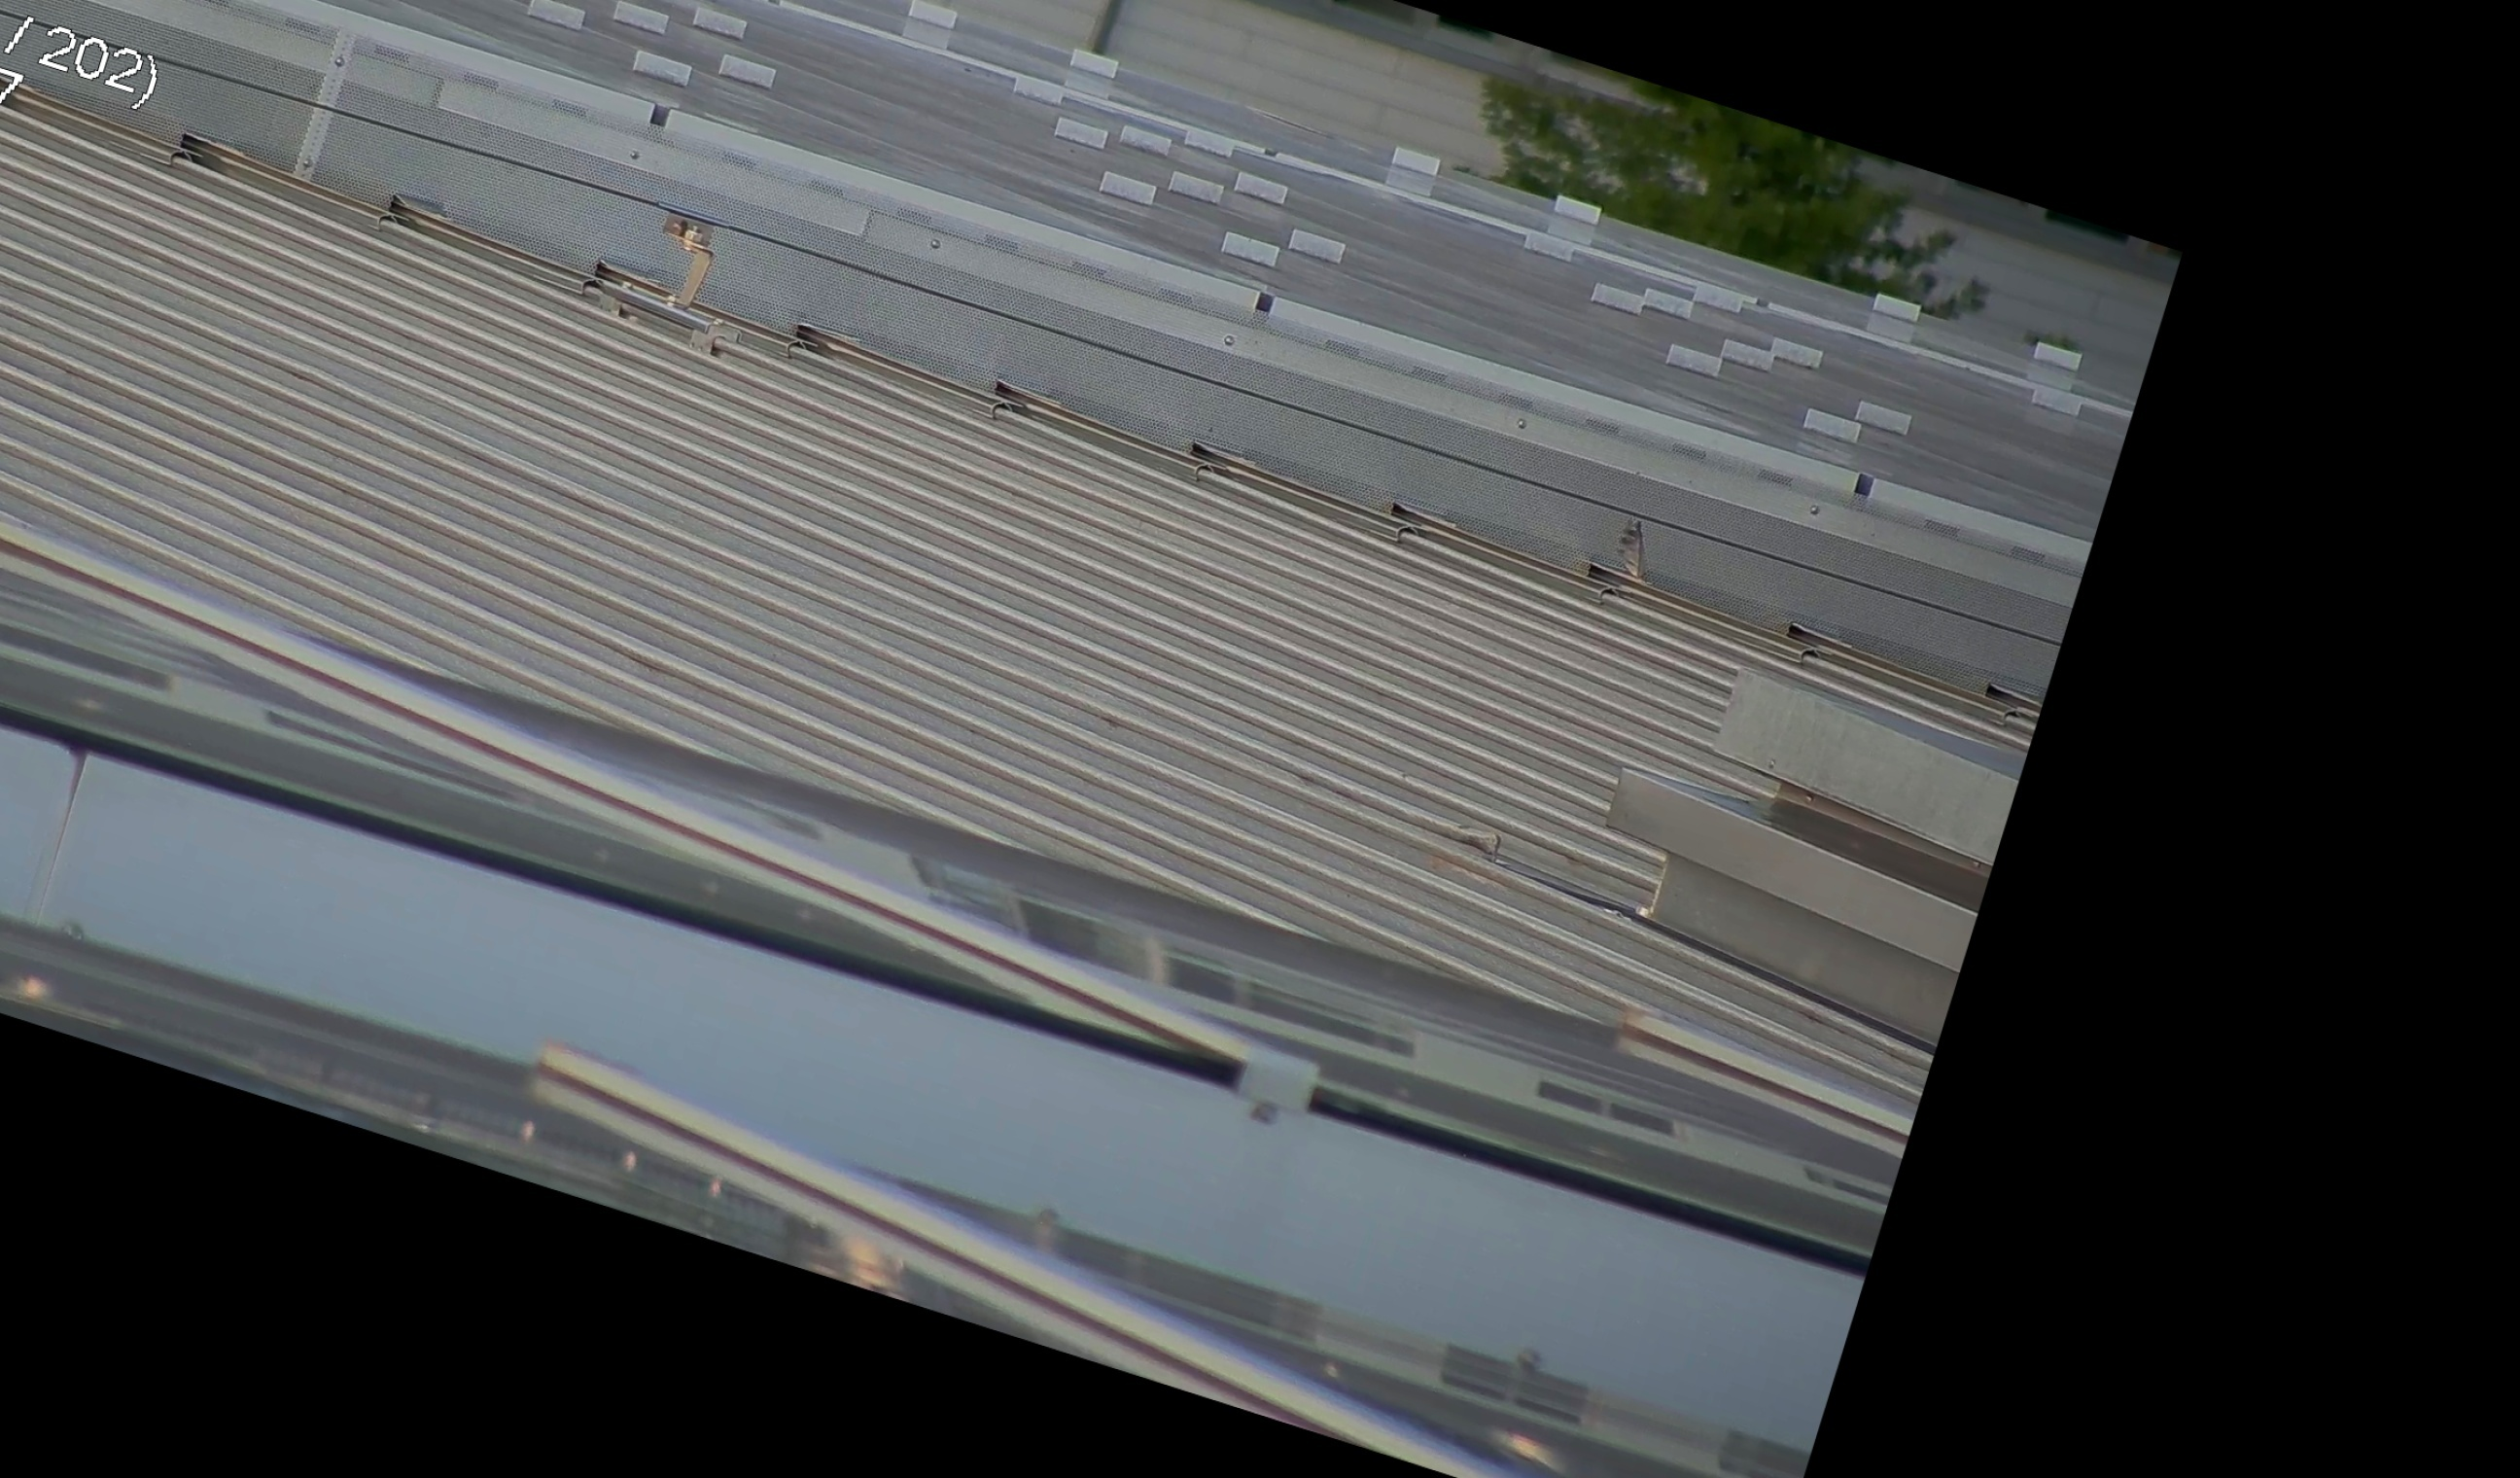Other: (1595, 500, 1678, 604)
